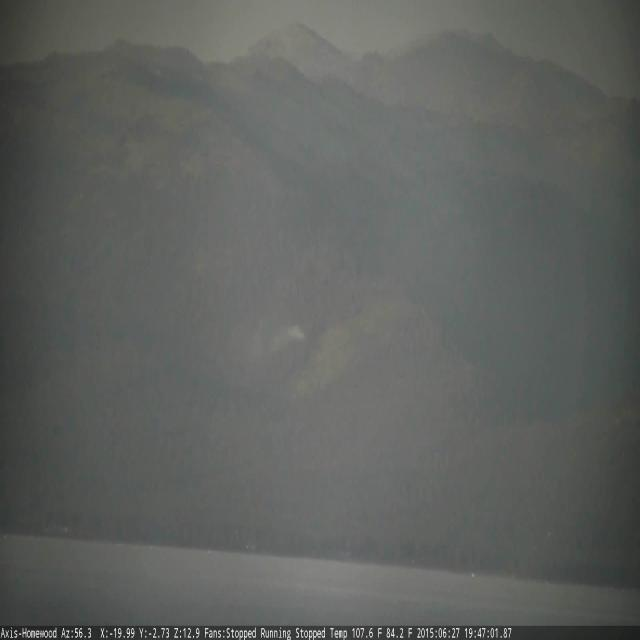smoke: (271, 316, 306, 352)
